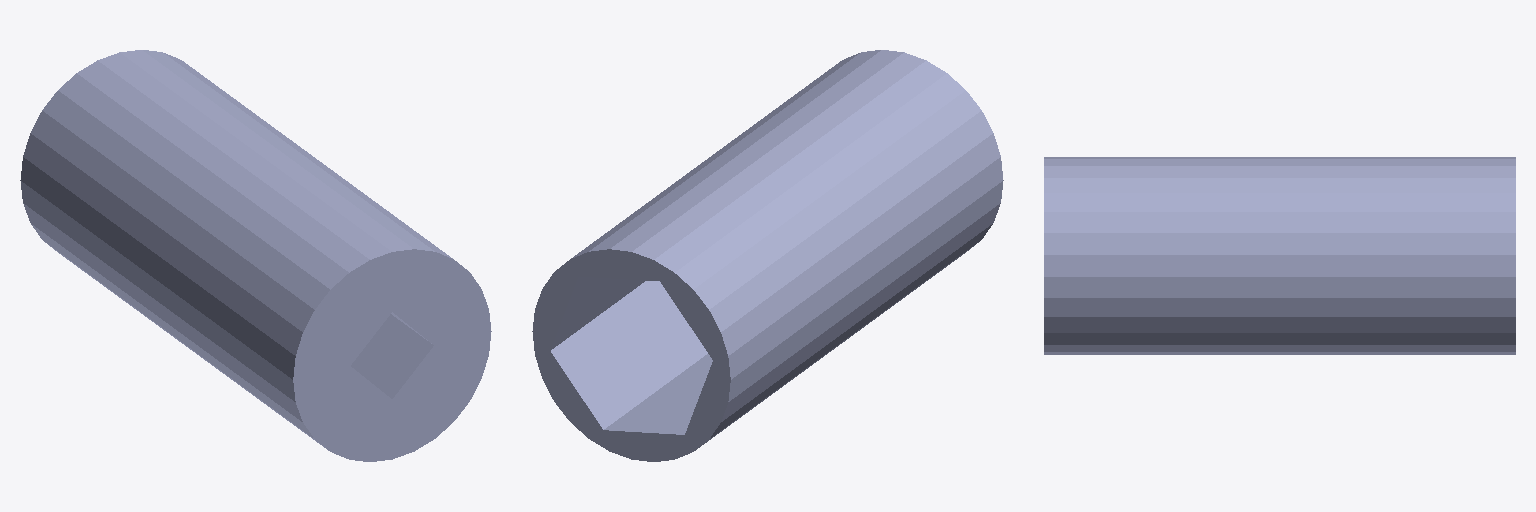
URDF robot description (t.SLDASM):
<?xml version="1.0" encoding="utf-8"?>
<!-- This URDF was automatically created by SolidWorks to URDF Exporter! Originally created by Stephen Brawner (brawner@gmail.com) 
     Commit Version: 1.6.0-1-g15f4949  Build Version: 1.6.7594.29634
     For more information, please see http://wiki.ros.org/sw_urdf_exporter -->
<robot
  name="t.SLDASM">
  <link
    name="base_link">
    <inertial>
      <origin
        xyz="-0.25491 0.11929 -0.20677"
        rpy="0 0 0" />
      <mass
        value="0.071758" />
      <inertia
        ixx="7.7553E-05"
        ixy="3.0462E-21"
        ixz="1.0818E-20"
        iyy="7.7553E-05"
        iyz="1.568E-20"
        izz="2.2345E-05" />
    </inertial>
    <visual>
      <origin
        xyz="0 0 0"
        rpy="0 0 0" />
      <geometry>
        <mesh
          filename="../meshes/base_link.STL" />
      </geometry>
      <material
        name="">
        <color
          rgba="0.69 0.71 0.83 1" />
      </material>
    </visual>
    <collision>
      <origin
        xyz="0 0 0"
        rpy="0 0 0" />
      <geometry>
        <mesh
          filename="../meshes/base_link.STL" />
      </geometry>
    </collision>
  </link>
</robot>

--- Facts derived from the render (not from the file) ---
3 views of the same robot in one strip: view 1: azimuth 30°, elevation 25°; view 2: azimuth 150°, elevation 25°; view 3: azimuth 270°, elevation 25° (orthographic).
Robot: t.SLDASM — 1 links, 0 joints (none); root link base_link; default pose: every joint at zero.
Visible links, largest first — view 1: base_link; view 2: base_link; view 3: base_link.
Boxes of the visible links, bbox=[...] form: base_link: bbox=[20, 50, 491, 461]; base_link: bbox=[532, 50, 1003, 461]; base_link: bbox=[1044, 157, 1515, 354].
Size in the robot's own frame: 0.042 by 0.1 by 0.042 metres.
Meshes: 1 distinct files referenced, 1 mesh visuals loaded (1 binary STL).
